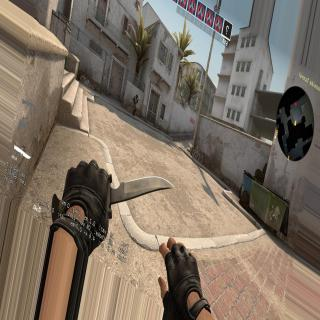CT-Body: (132, 94, 138, 113)
CT-Head: (136, 94, 138, 98)
